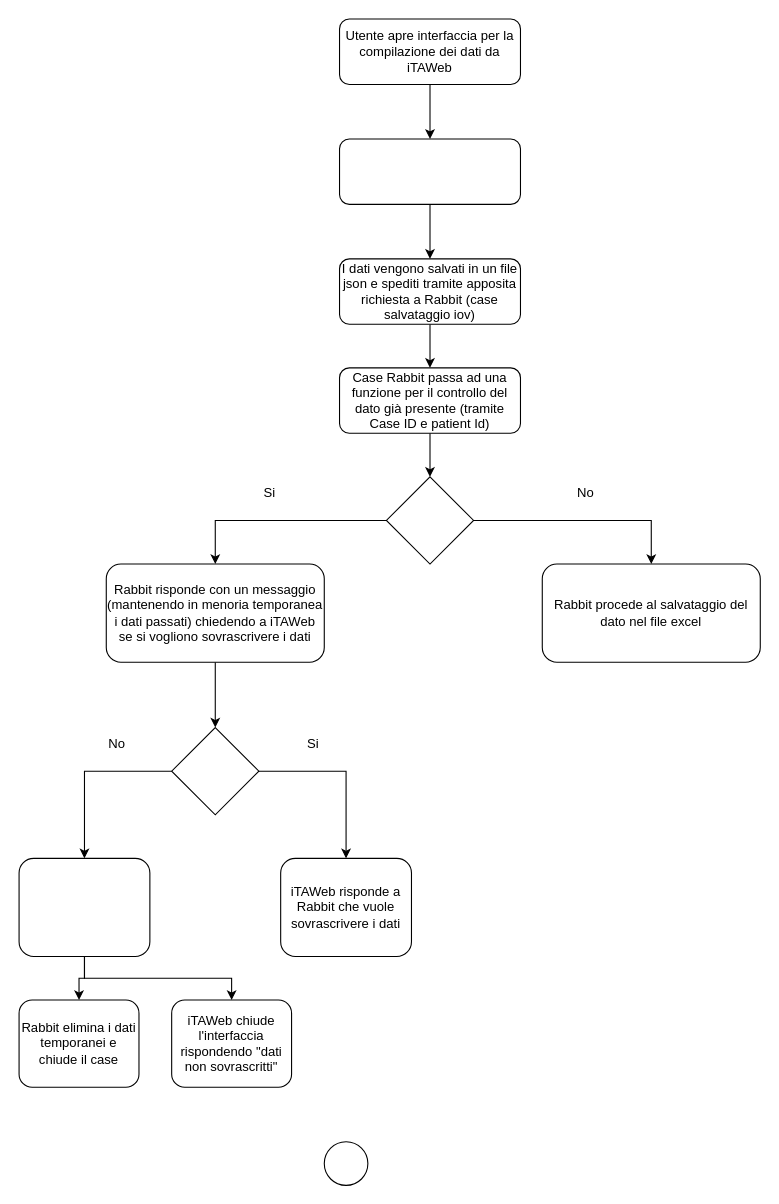
This 779x1204 diagram has some shape labels left out. The shapes that lost their labels are listed below. From the top down, each one's centre as x and y in pixels, then its label:
(x=429, y=171): Utente compila i dati e clicca "Salva"
(x=429, y=520): Dato presente?
(x=215, y=770): Utente risponde
(x=84, y=906): iTAWeb risponde a Rabbit che NON vuole sovrascrivere i dati
